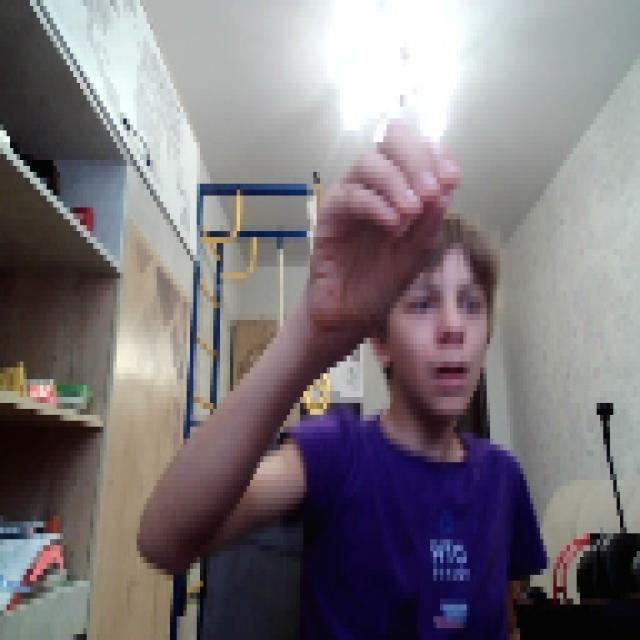left_click: (310, 113, 460, 326)
